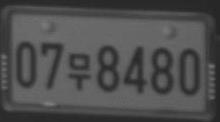0: (178, 47, 200, 95), (15, 41, 37, 87)
4: (123, 45, 148, 93)
7: (40, 42, 65, 88)
8: (96, 45, 120, 92), (151, 46, 174, 95)
무: (66, 52, 91, 90)
